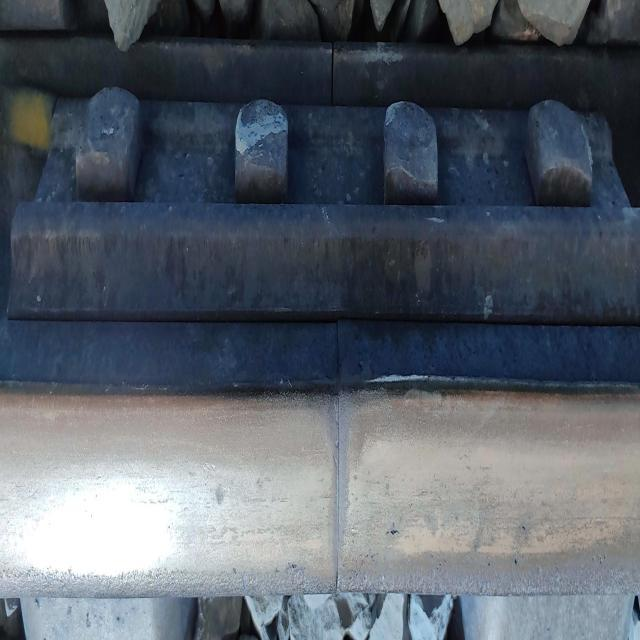Good Joint: (6, 91, 640, 318)
